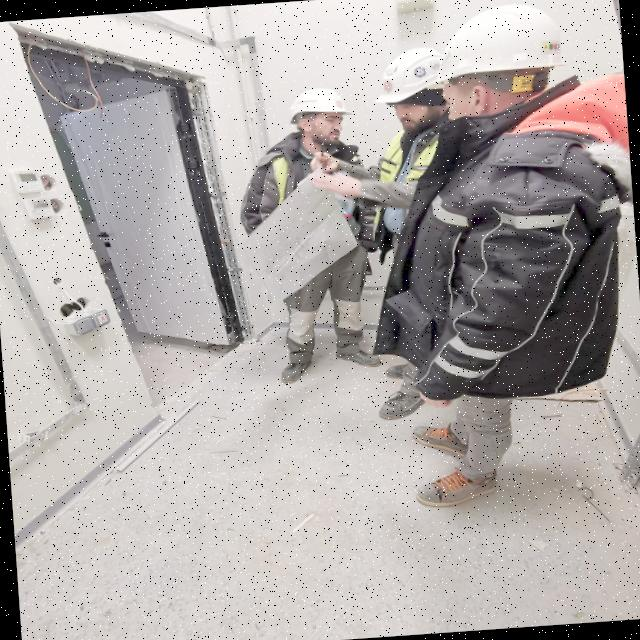Helmet: (434, 1, 572, 129), (374, 47, 453, 138), (286, 84, 356, 149)
